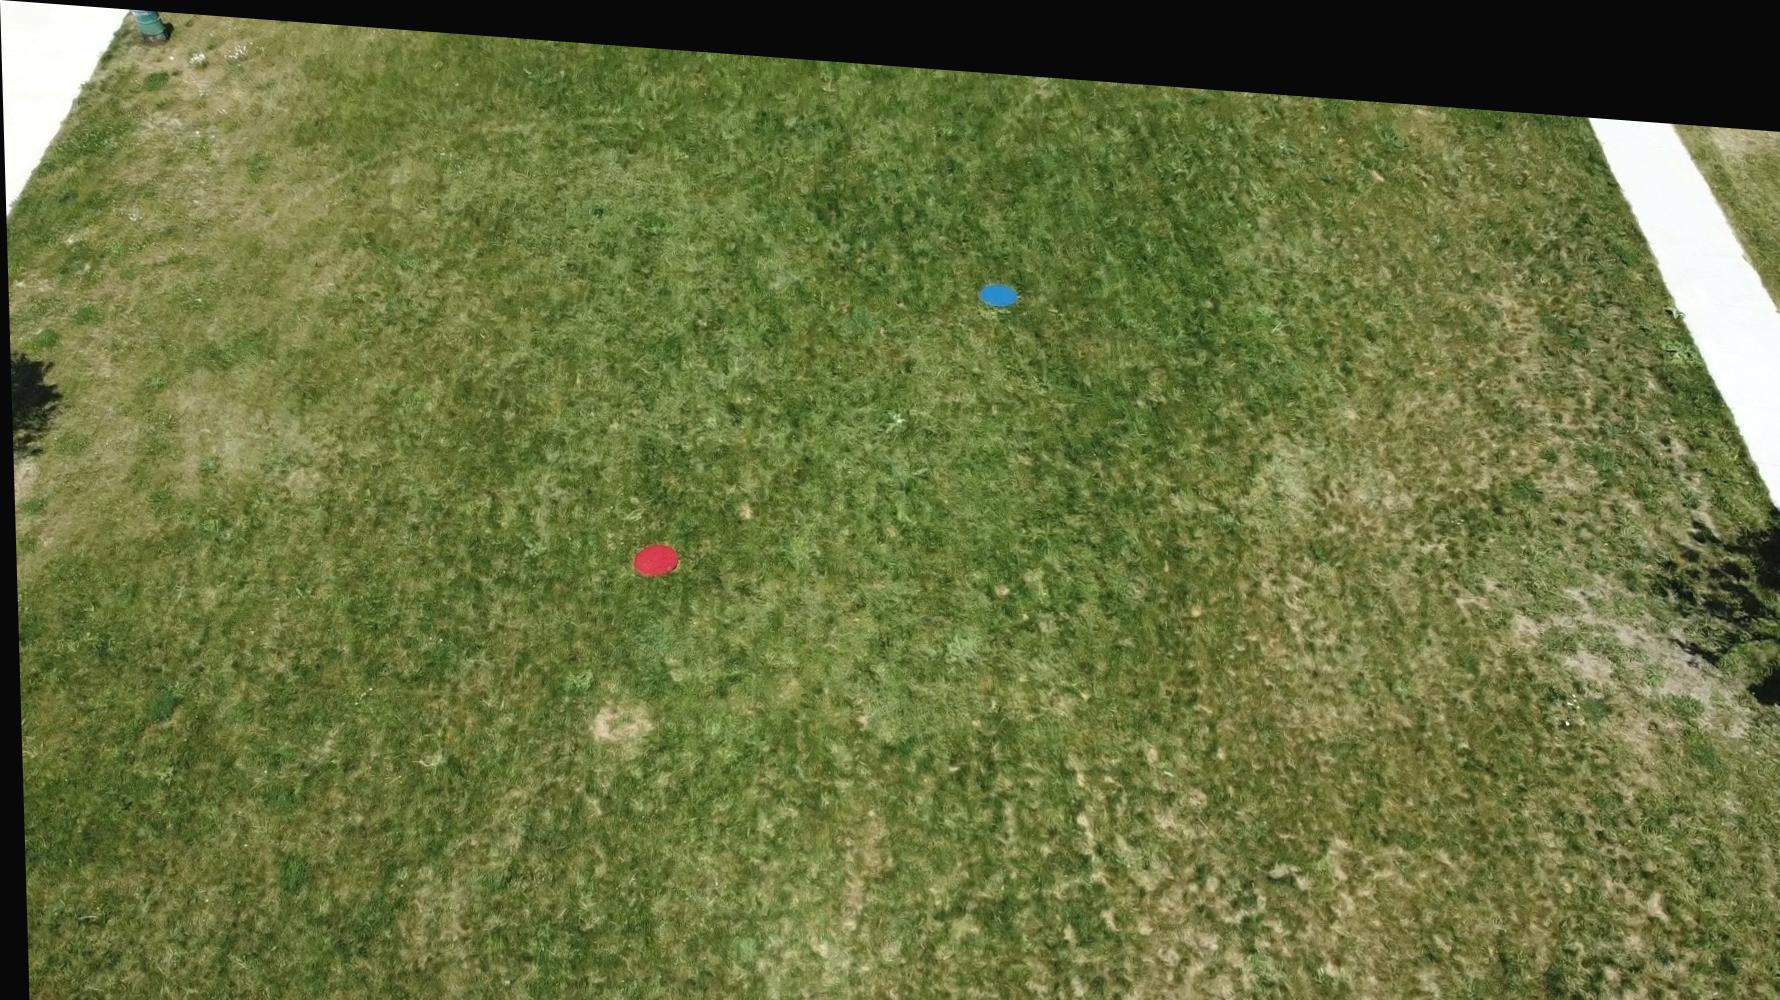Blue: (973, 265, 1020, 293)
Red: (628, 531, 679, 572)
